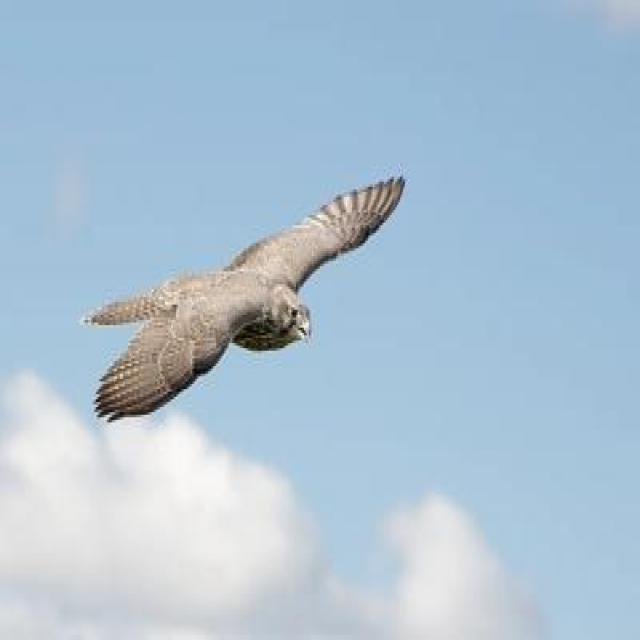birds: (79, 172, 421, 428)
